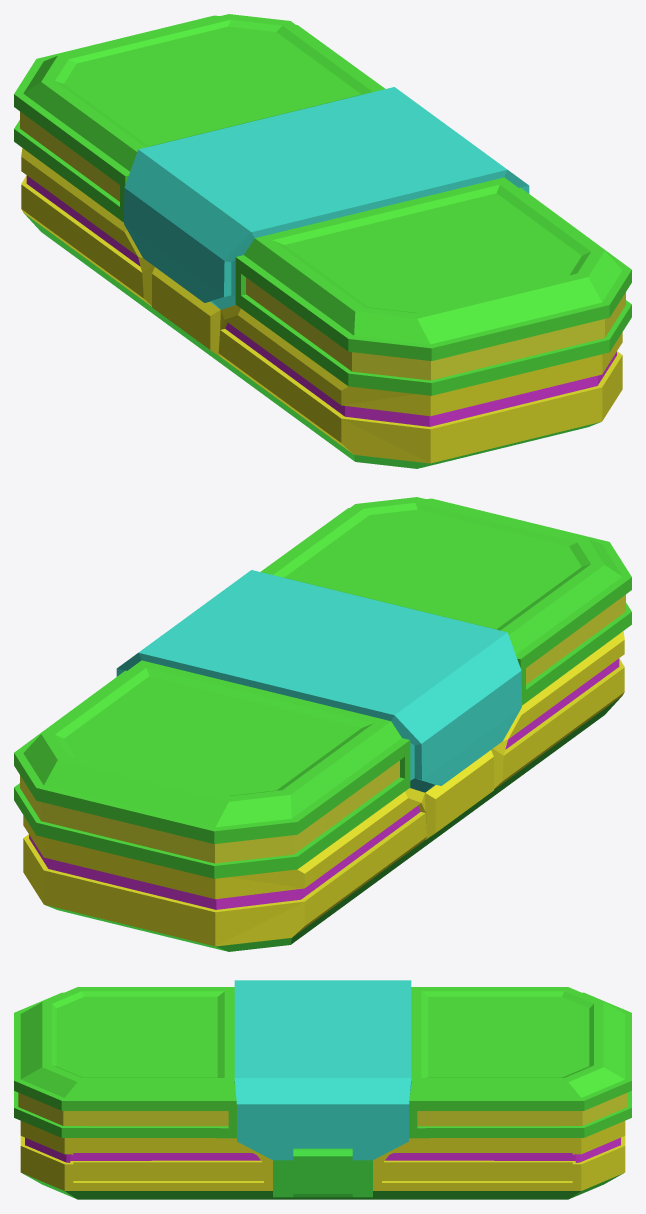
Rendered from Crate_01.fbx.
3 views of the same model, one above another, from view 1: azimuth 30°, elevation 25°; view 2: azimuth 150°, elevation 25°; view 3: azimuth 270°, elevation 25° (orthographic). The views are drawn at different scales.
Parts seen in each view (by area): view 1: Crate_01_Cap, Crate_01; view 2: Crate_01_Cap, Crate_01; view 3: Crate_01_Cap, Crate_01.
Part boxes in pixels (left/top/right/bottom): Crate_01_Cap: left=14, top=14, right=631, bottom=395; Crate_01: left=21, top=148, right=622, bottom=468; Crate_01_Cap: left=14, top=497, right=631, bottom=878; Crate_01: left=23, top=631, right=624, bottom=951; Crate_01_Cap: left=14, top=980, right=631, bottom=1160; Crate_01: left=20, top=1121, right=625, bottom=1199.
Bounding box in the file's own units: 70.13 × 34.06 × 155.
